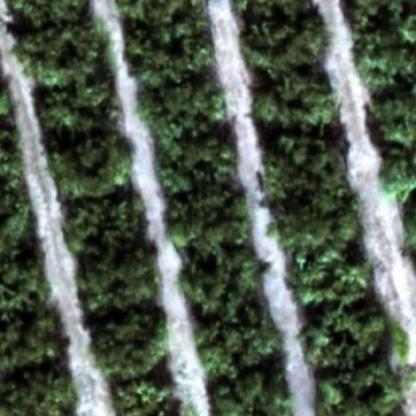Canopy-Citrus: (150, 117, 238, 192), (236, 0, 328, 69), (180, 250, 269, 318), (123, 16, 213, 82), (302, 301, 390, 367), (270, 185, 361, 248), (164, 188, 250, 254), (61, 188, 148, 252), (77, 248, 160, 315), (137, 76, 225, 138), (260, 122, 347, 184), (50, 130, 134, 194), (284, 244, 373, 304), (17, 23, 102, 85), (316, 362, 413, 415), (249, 68, 337, 126), (197, 317, 282, 377), (89, 312, 166, 374), (31, 74, 114, 127), (2, 361, 76, 415), (349, 39, 416, 97), (0, 304, 63, 364), (358, 93, 415, 157), (206, 371, 288, 415), (340, 1, 415, 42), (0, 240, 47, 300), (112, 376, 184, 415), (121, 0, 212, 28), (8, 0, 93, 27), (377, 148, 415, 198), (0, 174, 29, 239)
